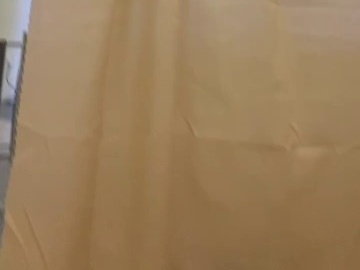curtain: (25, 0, 360, 270)
